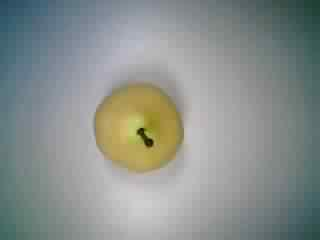pear: (84, 77, 193, 179)
